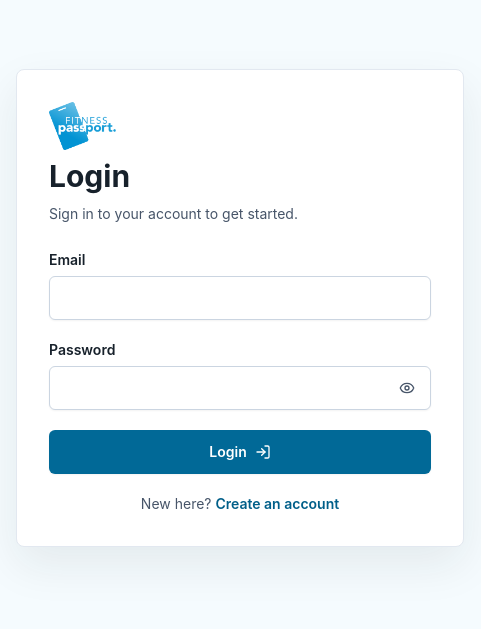
Scenario: auth flow › shows a friendly error when login fails
In the field labelled "Email": (240, 298) [49, 276, 431, 320], type "sam@example.com"
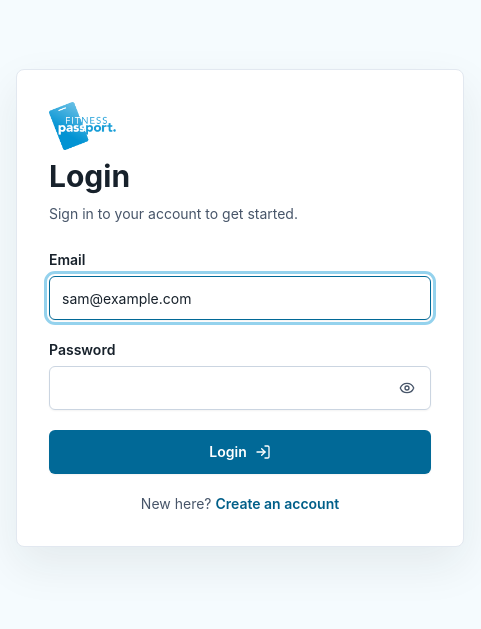
In the password field labelled "Password": (240, 388) [49, 366, 431, 410], type "error"
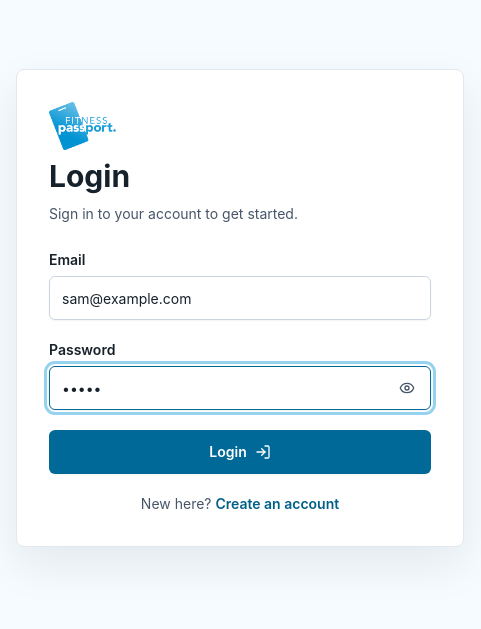
Click the button "Login": (240, 452) [49, 430, 431, 474]
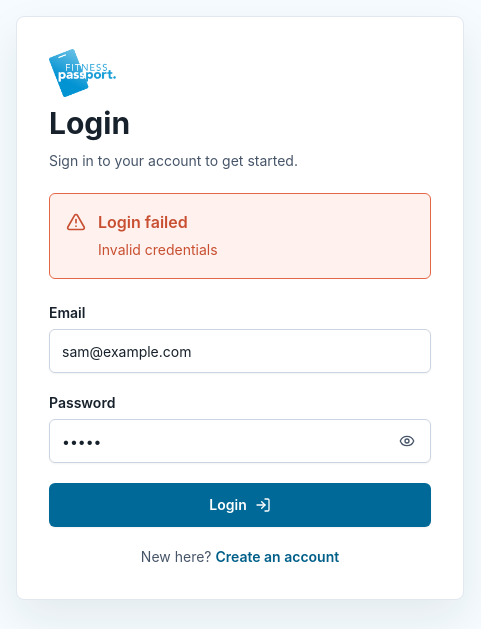
Expected: the heading "Login" is shown, [49, 105, 130, 141]
Expected: the text "Invalid credentials" is shown, [98, 238, 218, 262]
